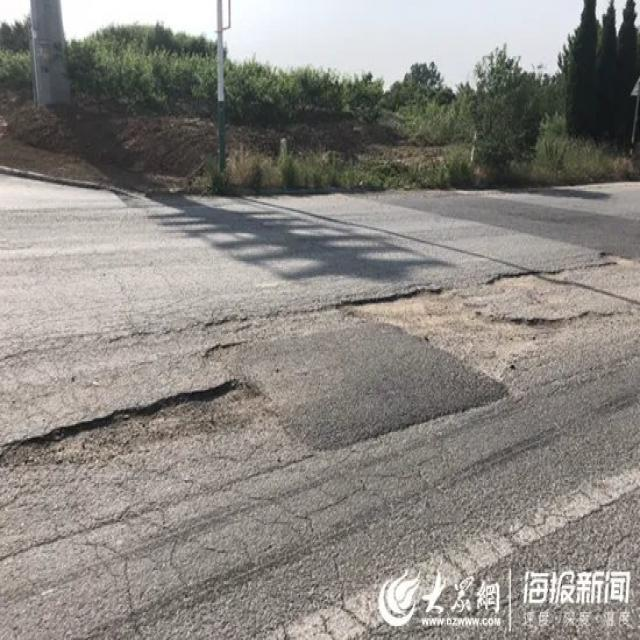Pothole: (347, 245, 639, 398), (0, 379, 305, 514)
